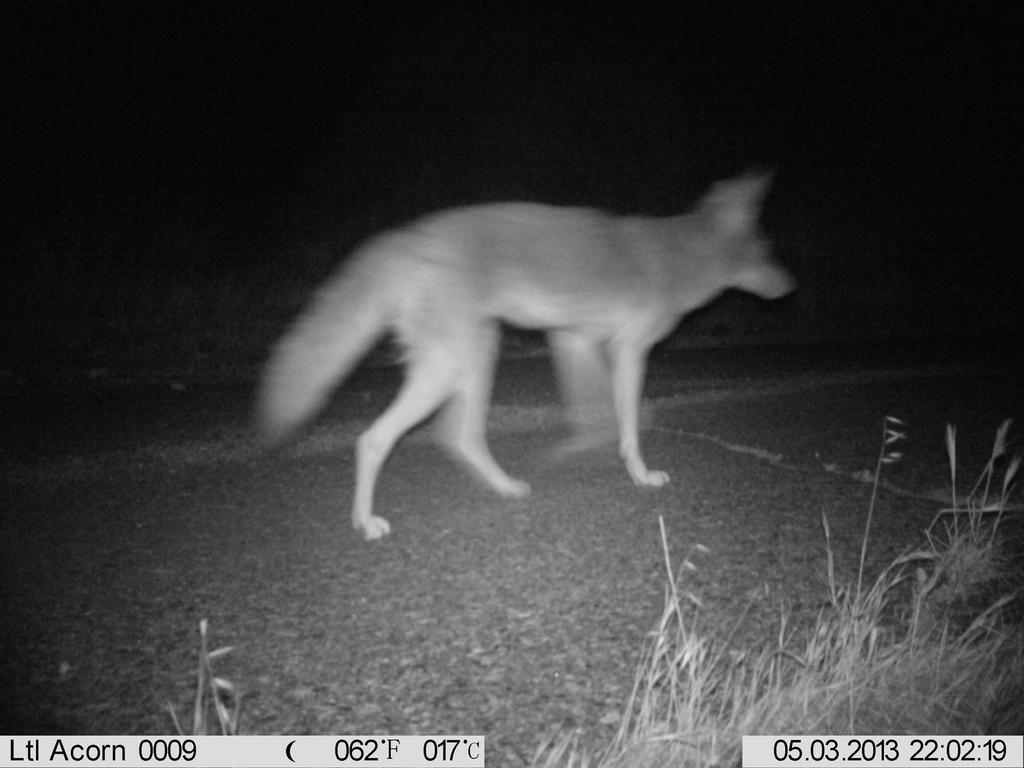coyote: (246, 165, 802, 549)
